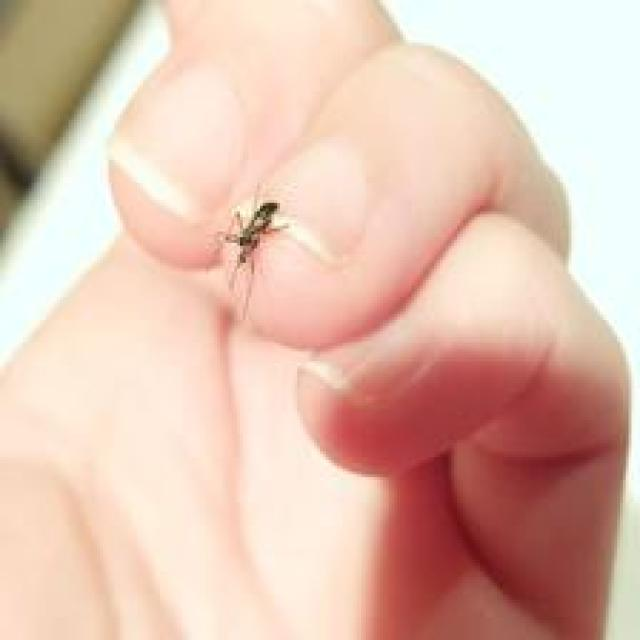Aedes albopictus: (213, 198, 290, 322)
